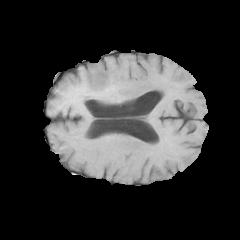glioma: (66, 61, 177, 119)
